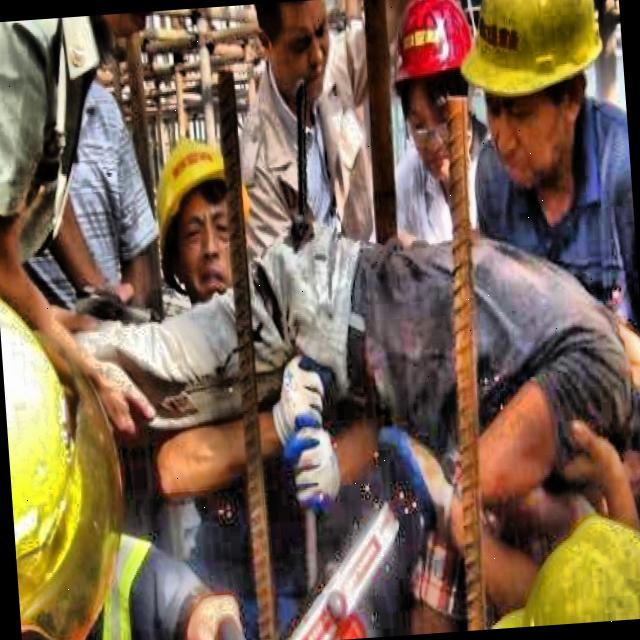helmet: (453, 0, 623, 202), (142, 112, 248, 306), (387, 0, 482, 132), (250, 0, 343, 109)
